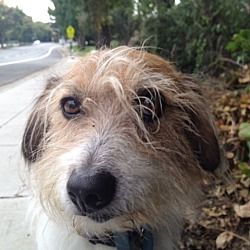dog: (20, 47, 223, 247)
